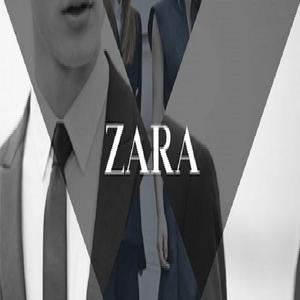zara: (99, 108, 203, 185)
